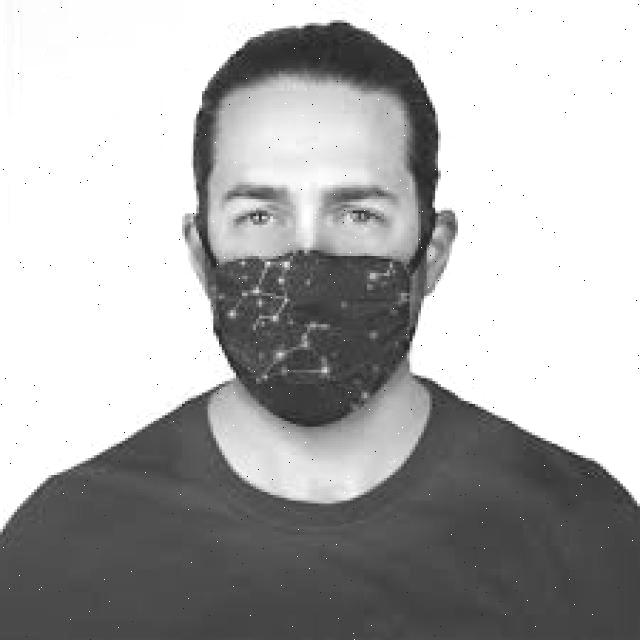fake: (174, 234, 453, 436)
real: (206, 91, 423, 432)
